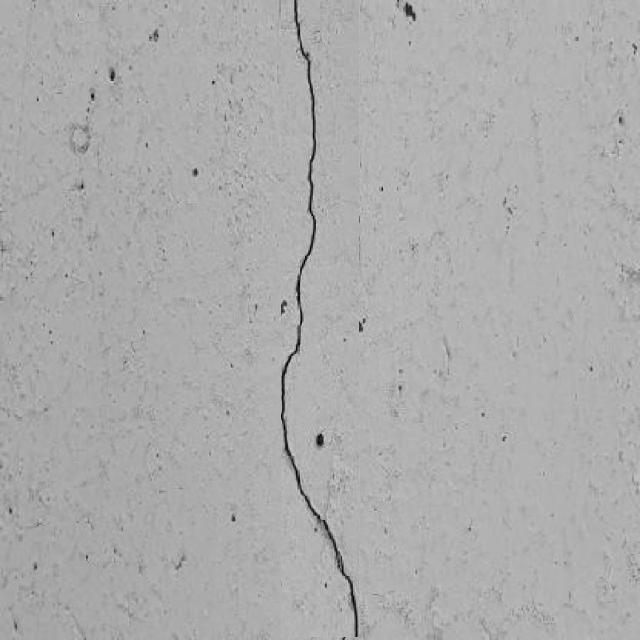Crack: (266, 7, 626, 632), (277, 0, 361, 639), (40, 9, 105, 383), (288, 0, 319, 342)
